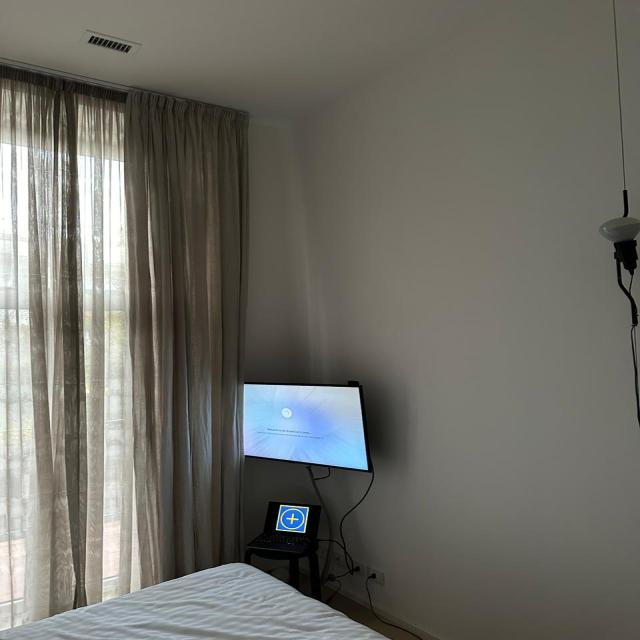Marker: (276, 504, 310, 534)
